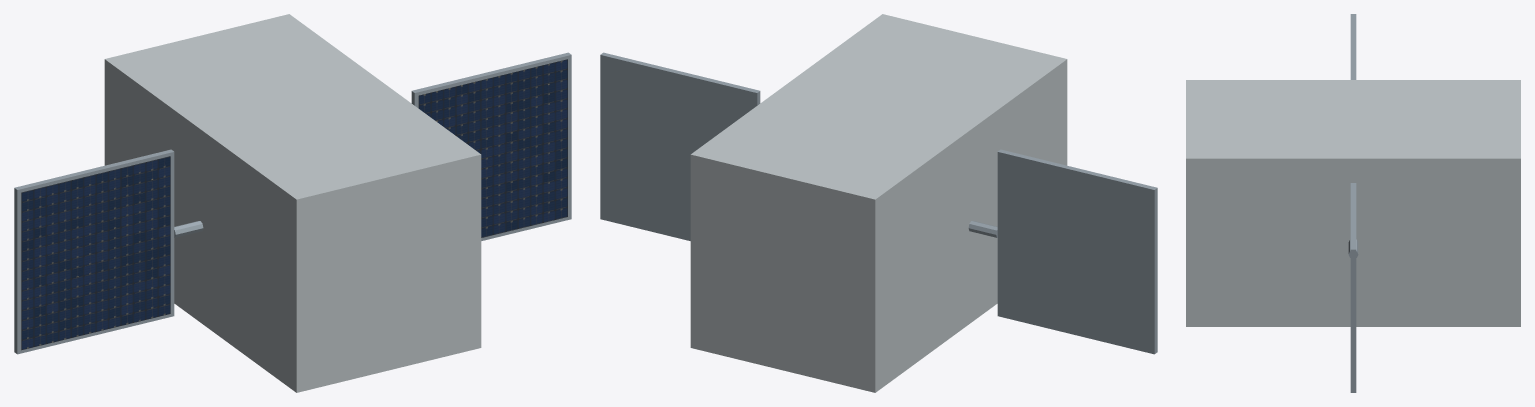
File: ref-hypersat-60508.glb
3 renders of one model, left to right at view 1: azimuth 30°, elevation 25°; view 2: azimuth 150°, elevation 25°; view 3: azimuth 270°, elevation 25°, orthographic. The views are drawn at different scales.
Visible parts, largest first — view 1: Spacecraft body, Photovoltaic laminates (×2), Array frame (×2); view 2: Spacecraft body, Array frame (×2); view 3: Spacecraft body, Array frame (×2).
Boxes of the visible parts, x1,y1,x2,y2 form: Spacecraft body: (104,14,481,392); Photovoltaic laminates (×2): (21,59,567,350); Array frame (×2): (14,52,571,354); Spacecraft body: (690,14,1067,392); Array frame (×2): (600,52,1157,354); Spacecraft body: (1186,80,1520,326); Array frame (×2): (1350,14,1356,392).
Size of the model in its own units: 1.5 by 0.5 by 0.9.
3 materials, 1 textured.
